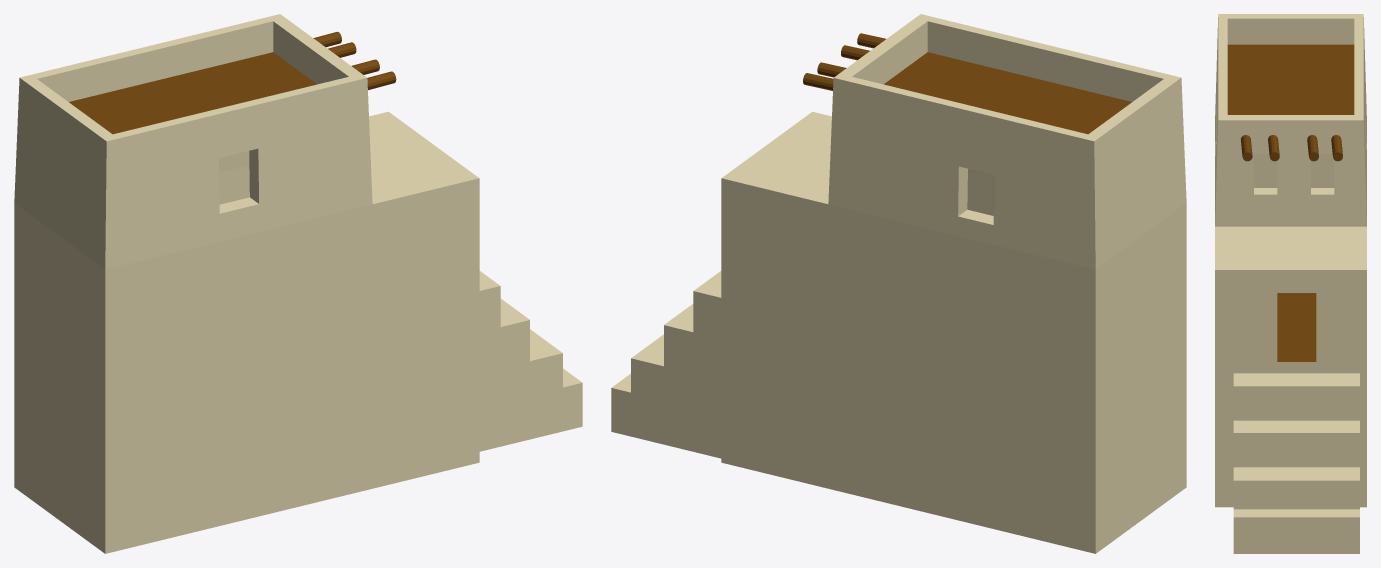
The model's file is shoe.glb.
The picture shows the model from 3 angles, left to right: view 1: azimuth 30°, elevation 25°; view 2: azimuth 150°, elevation 25°; view 3: azimuth 270°, elevation 25°; orthographic projection. The views are drawn at different scales.
Parts seen in each view (by area): view 1: shoe; view 2: shoe; view 3: shoe.
Boxes of the visible parts, x1,y1,x2,y2 form: shoe: (14,14,582,553); shoe: (611,14,1186,553); shoe: (1215,14,1366,553).
Bounding box in the file's own units: 7.44 × 5.97 × 2.4.
